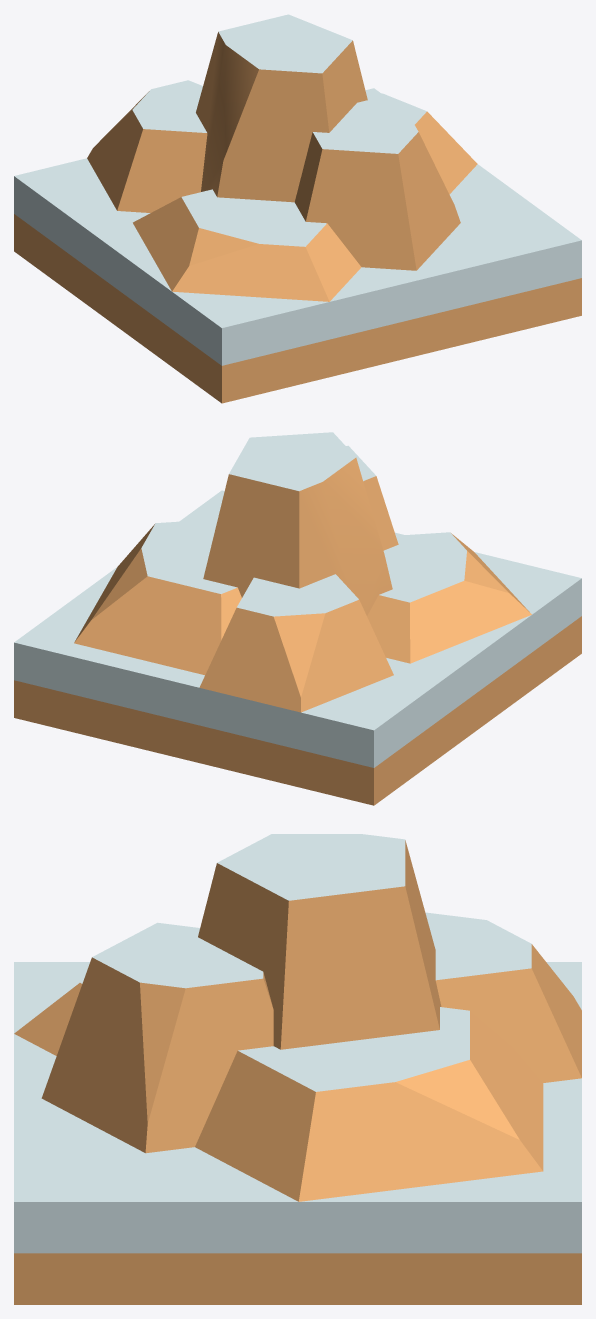
The model's file is snow_tile_rock.fbx.
3 views of the same model, one above another, from view 1: azimuth 30°, elevation 25°; view 2: azimuth 150°, elevation 25°; view 3: azimuth 270°, elevation 25° (orthographic). The views are drawn at different scales.
Visible parts, largest first — view 1: rocks, snow_tile_rock; view 2: rocks, snow_tile_rock; view 3: rocks, snow_tile_rock.
Part boxes in pixels (<box>): rocks: <box>87,14,477,301</box>; snow_tile_rock: <box>14,88,581,403</box>; rocks: <box>74,432,531,712</box>; snow_tile_rock: <box>14,490,581,805</box>; rocks: <box>14,834,581,1201</box>; snow_tile_rock: <box>14,962,581,1304</box>.
Bounding box in the file's own units: 10 × 6.19 × 10.
